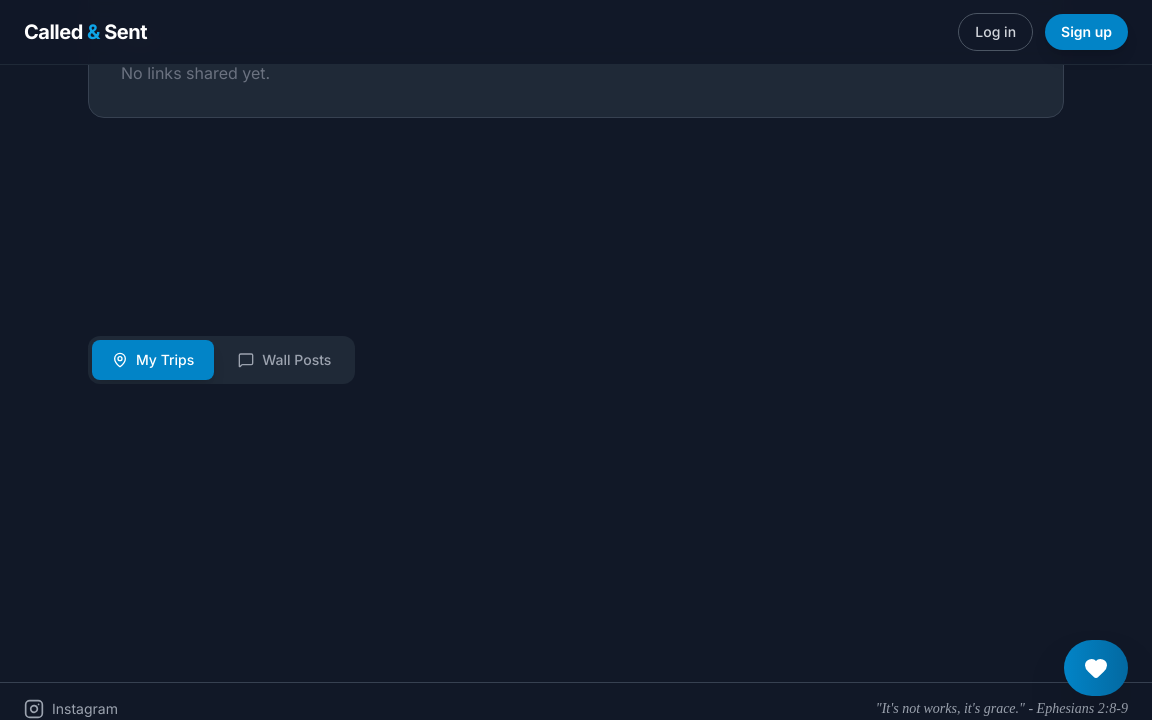
it: Public profile (/@slug) › loads trip data without a session (no session-dependent throw)
(page scrolled)
Click the button "My Trips". click: (153, 360)
box: [92,340,214,380]
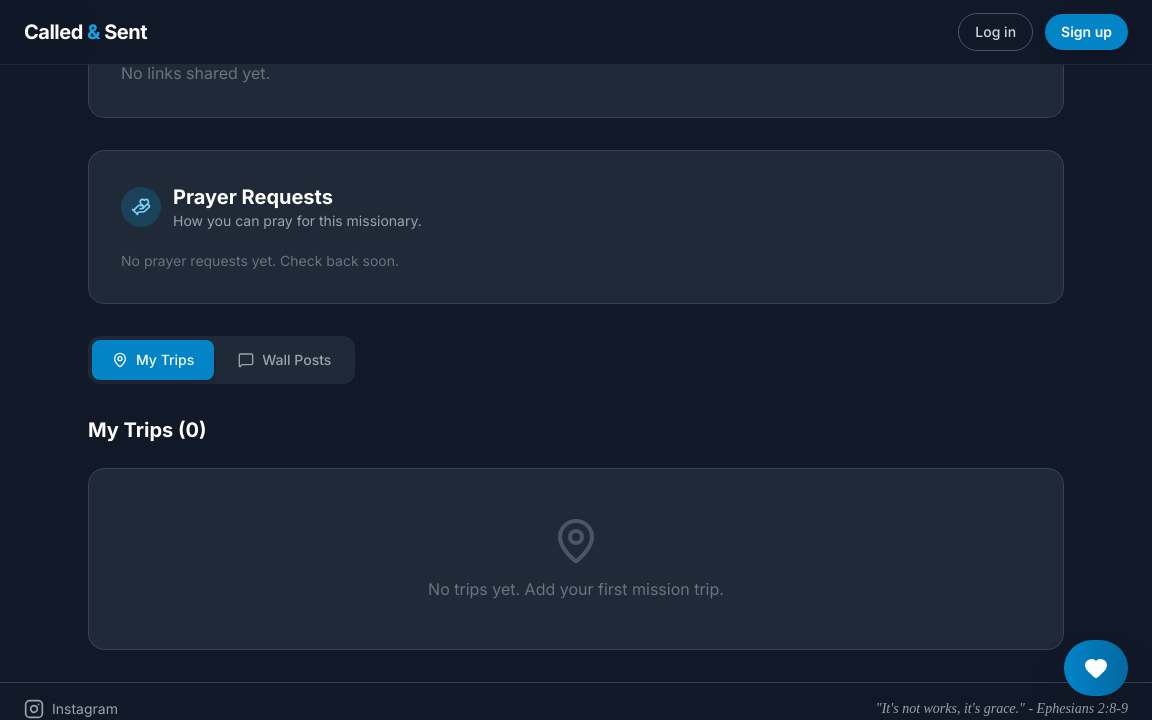
Expected: the heading "My Trips (0)" is shown, [88,416,207,444]
